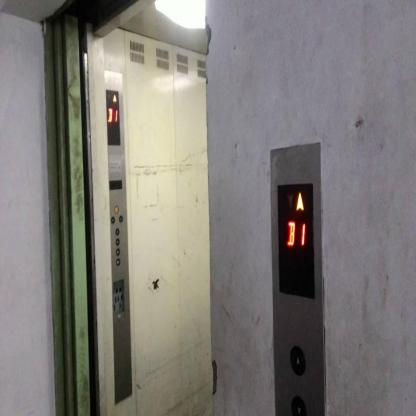blur: (110, 215, 115, 224), (114, 205, 118, 213), (115, 227, 119, 235), (116, 258, 120, 265), (119, 214, 122, 222), (118, 314, 121, 322), (116, 248, 119, 255), (116, 238, 119, 244)
down: (290, 396, 306, 416)
led: (277, 184, 315, 299), (105, 88, 121, 146)
up: (290, 345, 305, 376)
